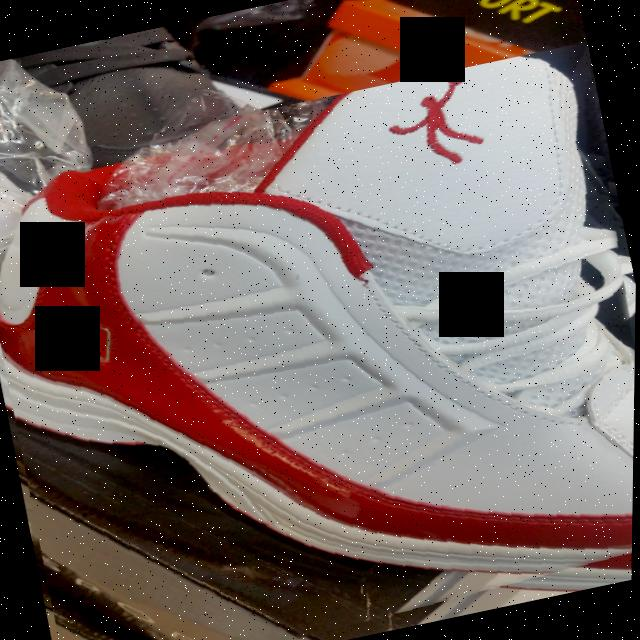shoe: (0, 41, 640, 640)
